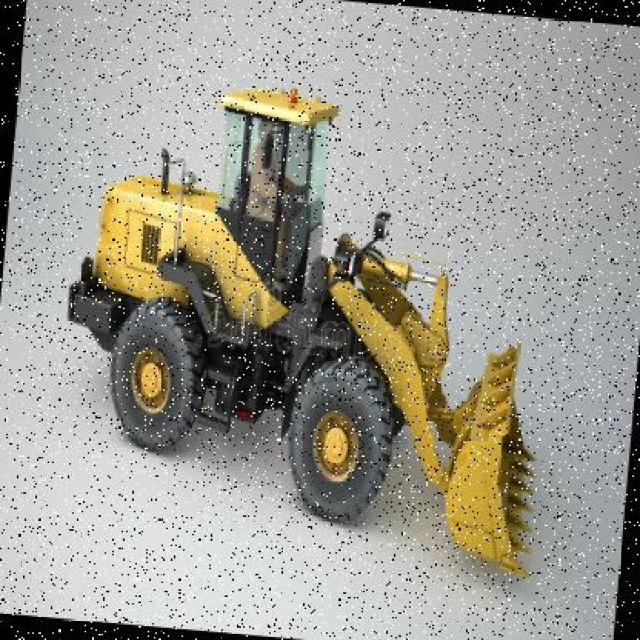buldozerpayloadergrader: (41, 58, 572, 574)
